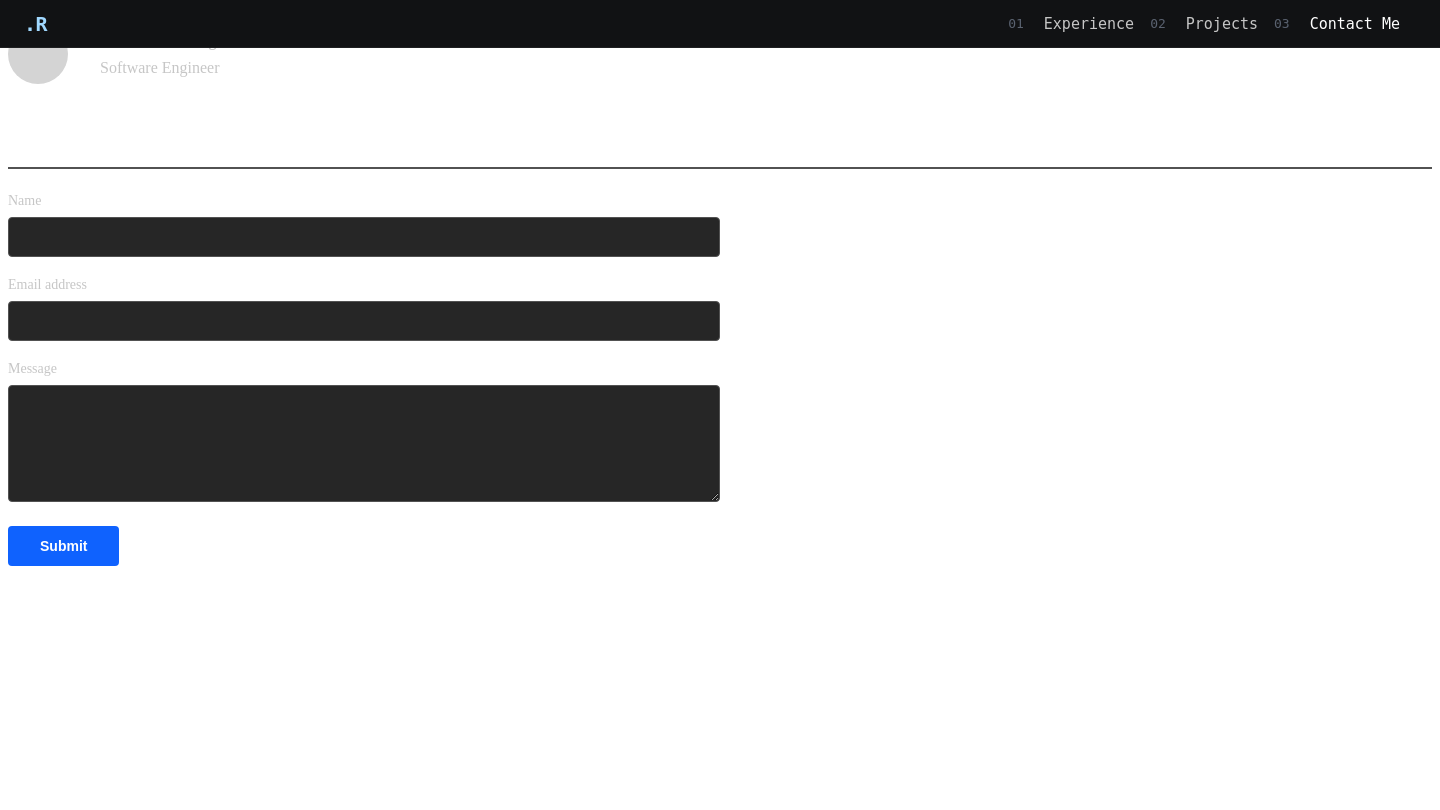
Test: shows validation error when message is empty
In the field labelled "Name": (364, 237) x1=8 y1=217 x2=720 y2=257, type "Alice"
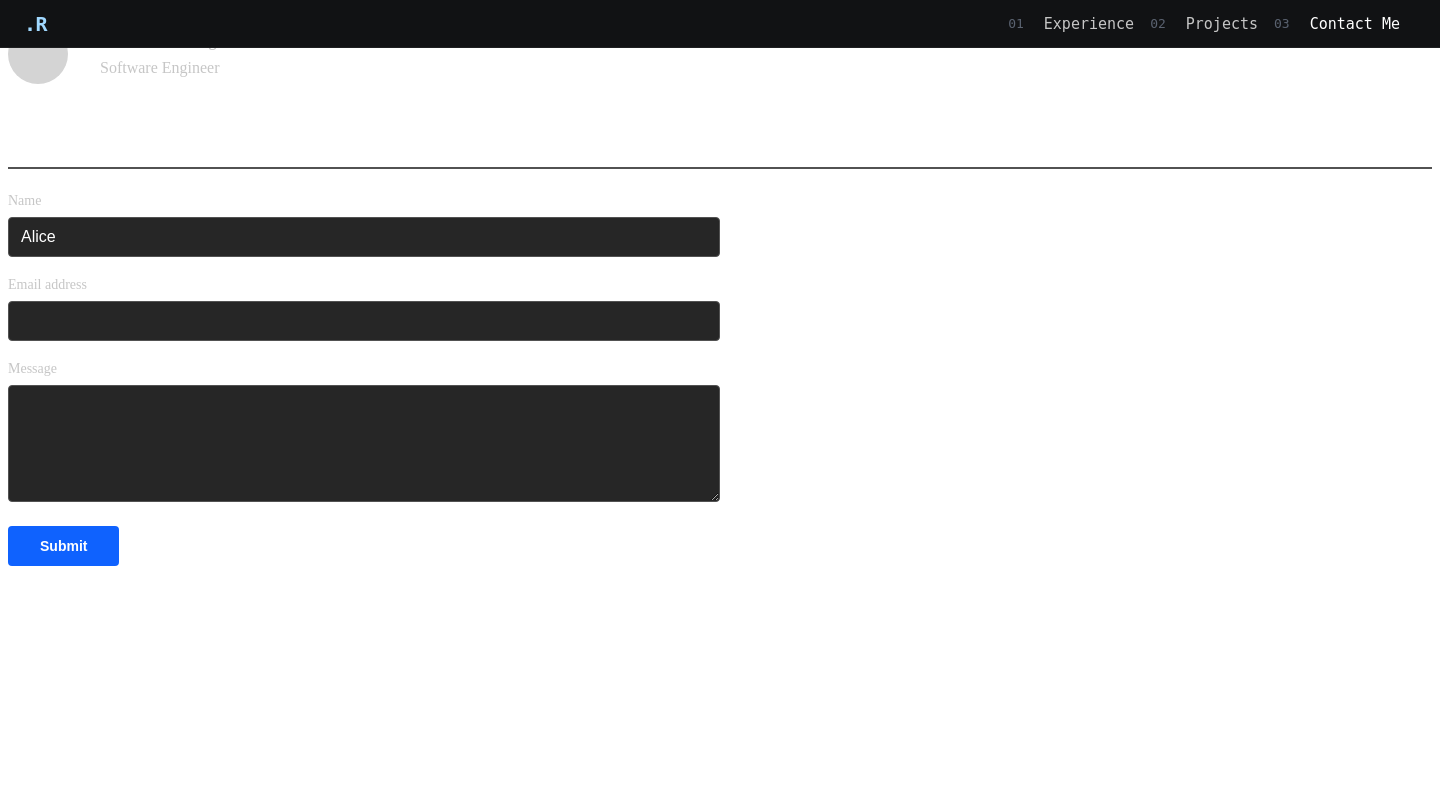
In the field labelled "Email address": (364, 321) x1=8 y1=301 x2=720 y2=341, type "alice@example.com"
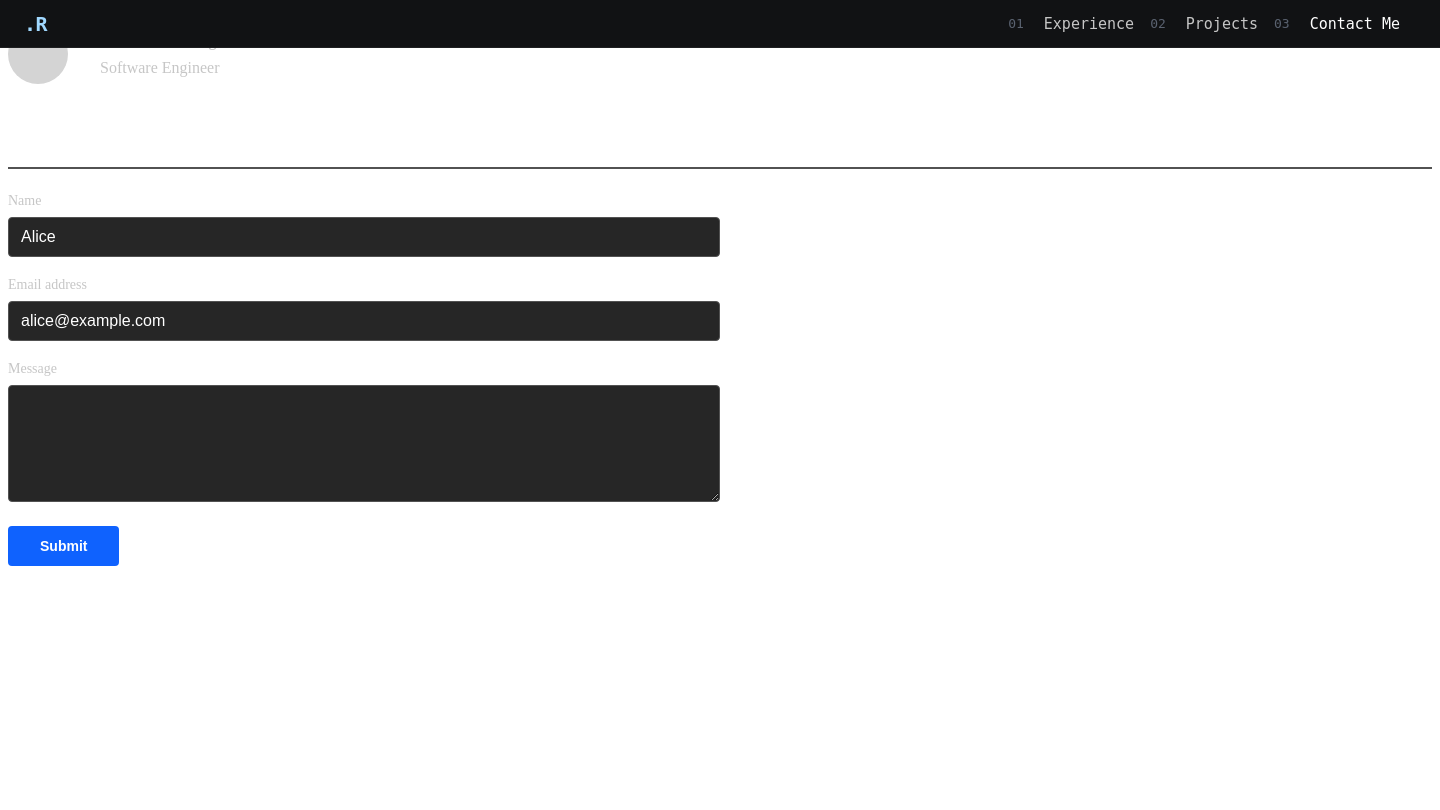
Click the button "Submit": (64, 546) x1=8 y1=526 x2=120 y2=566
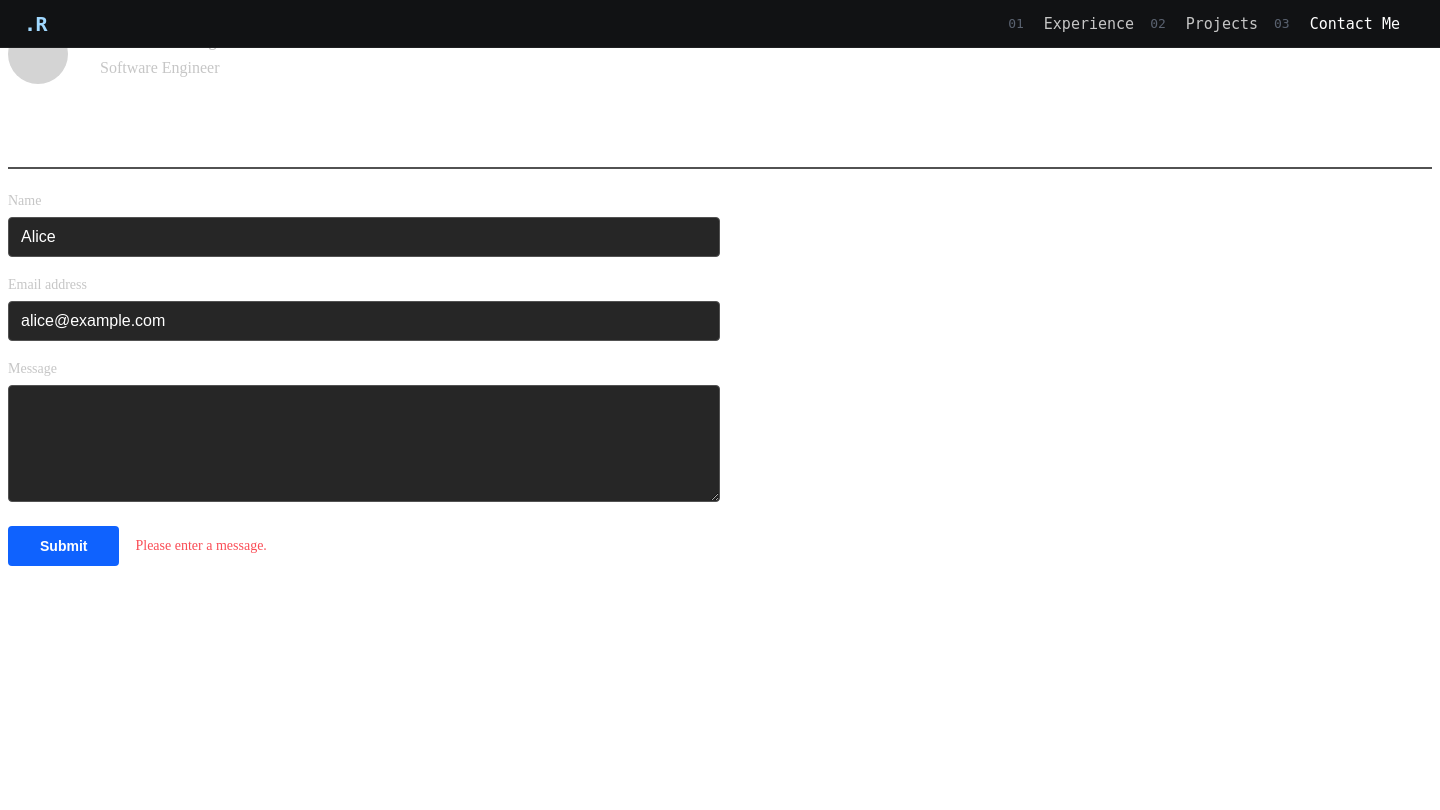
Check: the text "Please enter a message." is shown, box x1=136 y1=534 x2=267 y2=558
